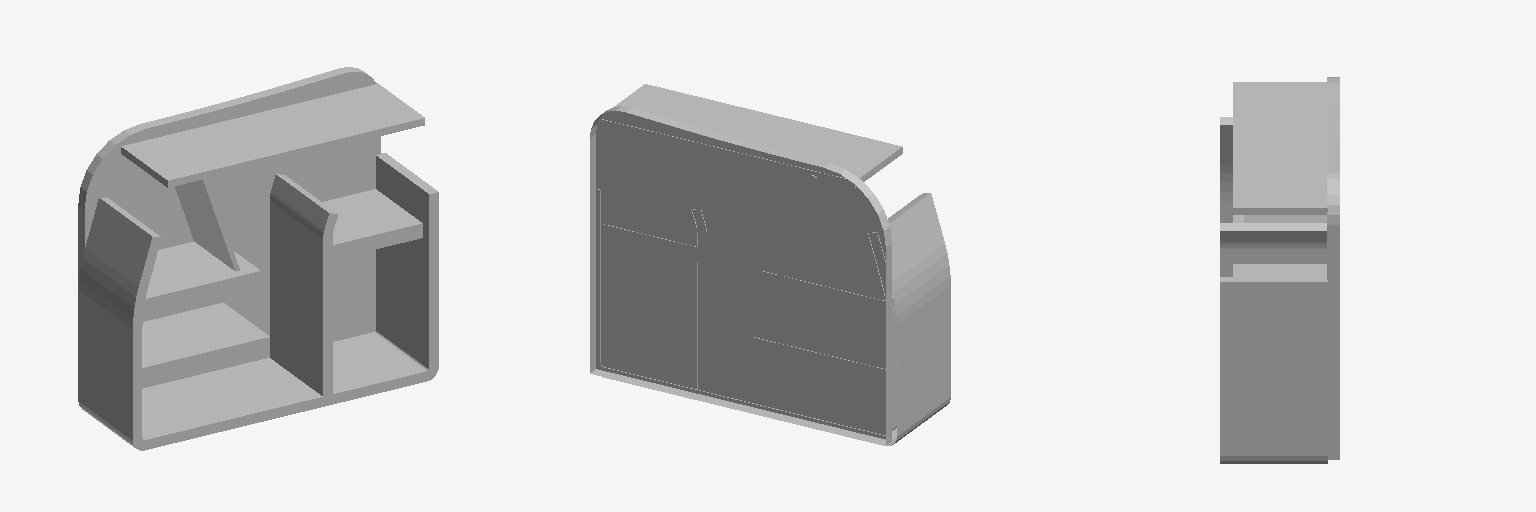
File: SetA_Shelve_Style_05.obj
3 renders of one model, left to right at view 1: azimuth 30°, elevation 25°; view 2: azimuth 150°, elevation 25°; view 3: azimuth 270°, elevation 25°, orthographic.
Parts seen in each view (by area): view 1: SetA_Shelve_Style_05; view 2: SetA_Shelve_Style_05; view 3: SetA_Shelve_Style_05.
Part boxes in pixels (x1,y1,x2,y2): SetA_Shelve_Style_05: (78, 67, 438, 450); SetA_Shelve_Style_05: (590, 84, 950, 445); SetA_Shelve_Style_05: (1220, 77, 1339, 463).
Bounding box in the file's own units: 0.3414 × 0.2942 × 0.1155.